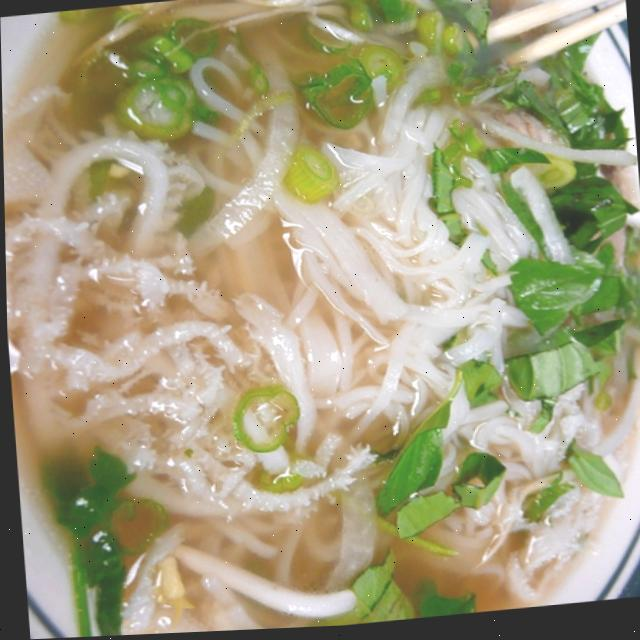面条主食: (0, 0, 628, 632)
